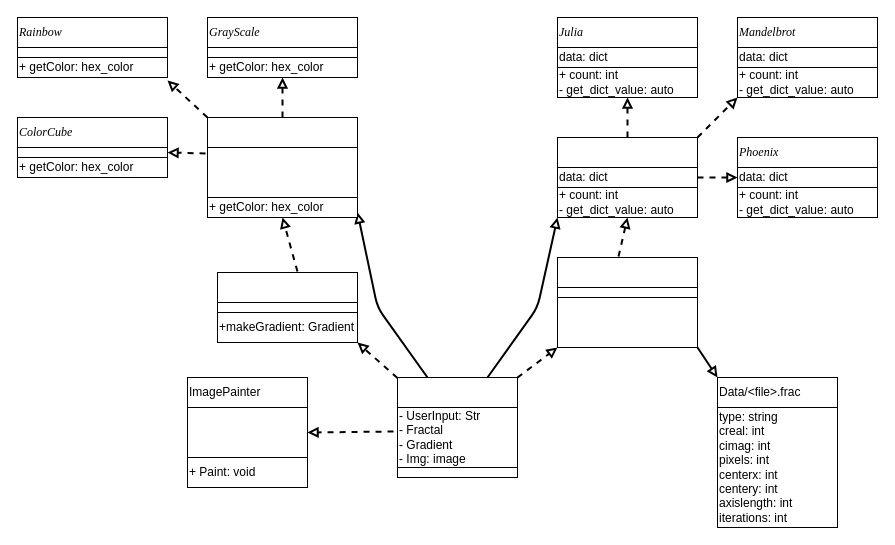
This 895x545 diagram has some shape labels left out. Each missing label, with the centre of its shape:
+ Rainbow: array(Color) + ColorCube: array(Color) + GrayScale: array(Color): (x=282, y=172)
+ screenSize: int + window: Tk() + img: photoImage(): (x=247, y=432)
+makeFractal: Fractal - typeCorrect: dict - FillDict: dict: (x=627, y=322)
Fractal_Factory: (x=627, y=272)
Fractals: (x=627, y=152)
Gradient_Factory: (x=287, y=287)
Gradients: (x=282, y=132)
Main: (x=457, y=392)
